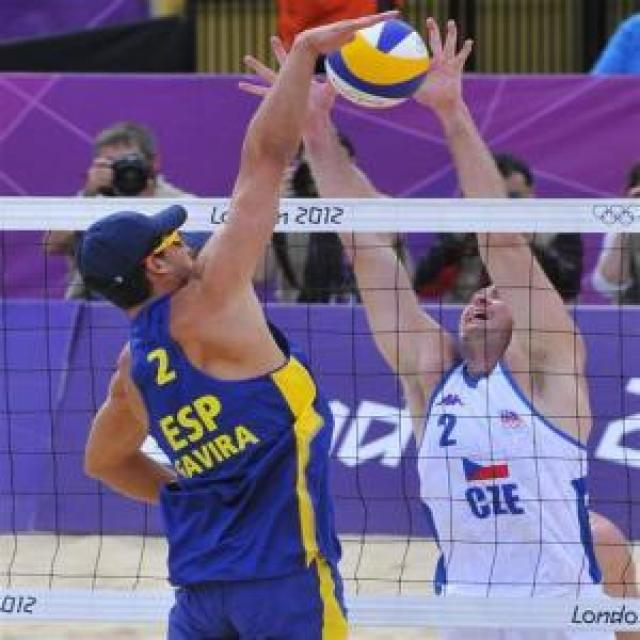volleyball: (325, 19, 428, 109)
